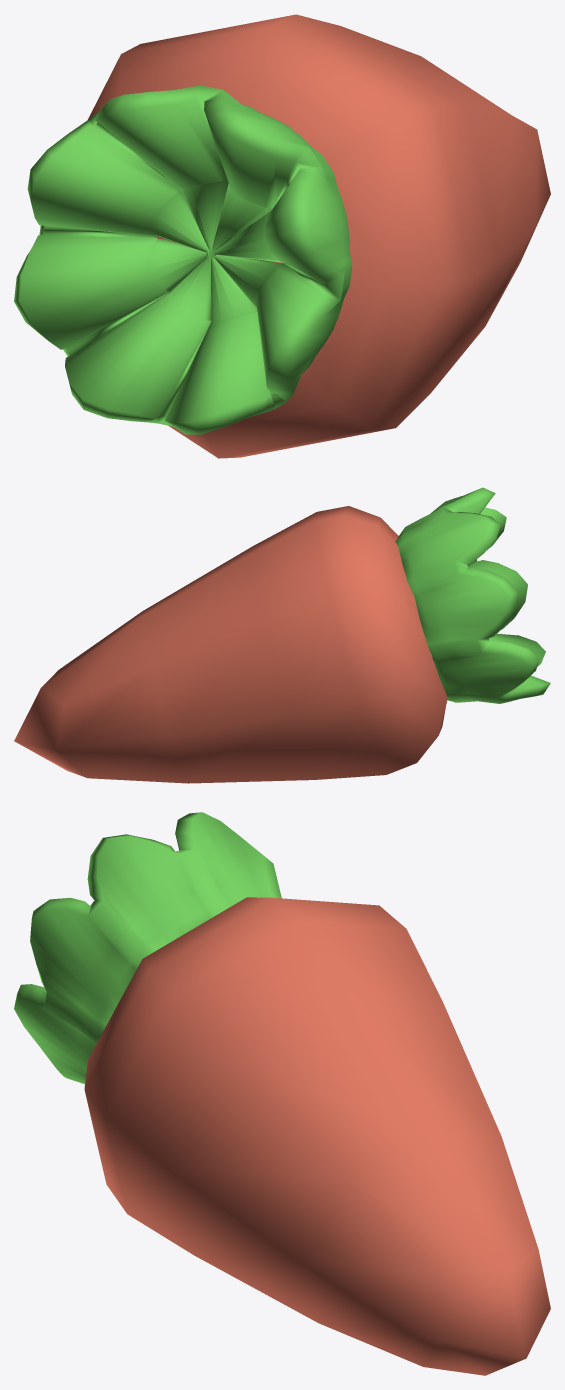
File: Carrot_Food.glb
3 views of the same model, one above another, from view 1: azimuth 30°, elevation 25°; view 2: azimuth 150°, elevation 25°; view 3: azimuth 270°, elevation 25° (orthographic). The views are drawn at different scales.
Parts seen in each view (by area): view 1: Carrot_Food; view 2: Carrot_Food; view 3: Carrot_Food.
Boxes of the visible parts, x1,y1,x2,y2 form: Carrot_Food: (14,14,550,458); Carrot_Food: (14,487,550,783); Carrot_Food: (14,812,550,1375).
Bounding box in the file's own units: 0.0928 × 0.0561 × 0.0752.
1 material, 1 textured.
